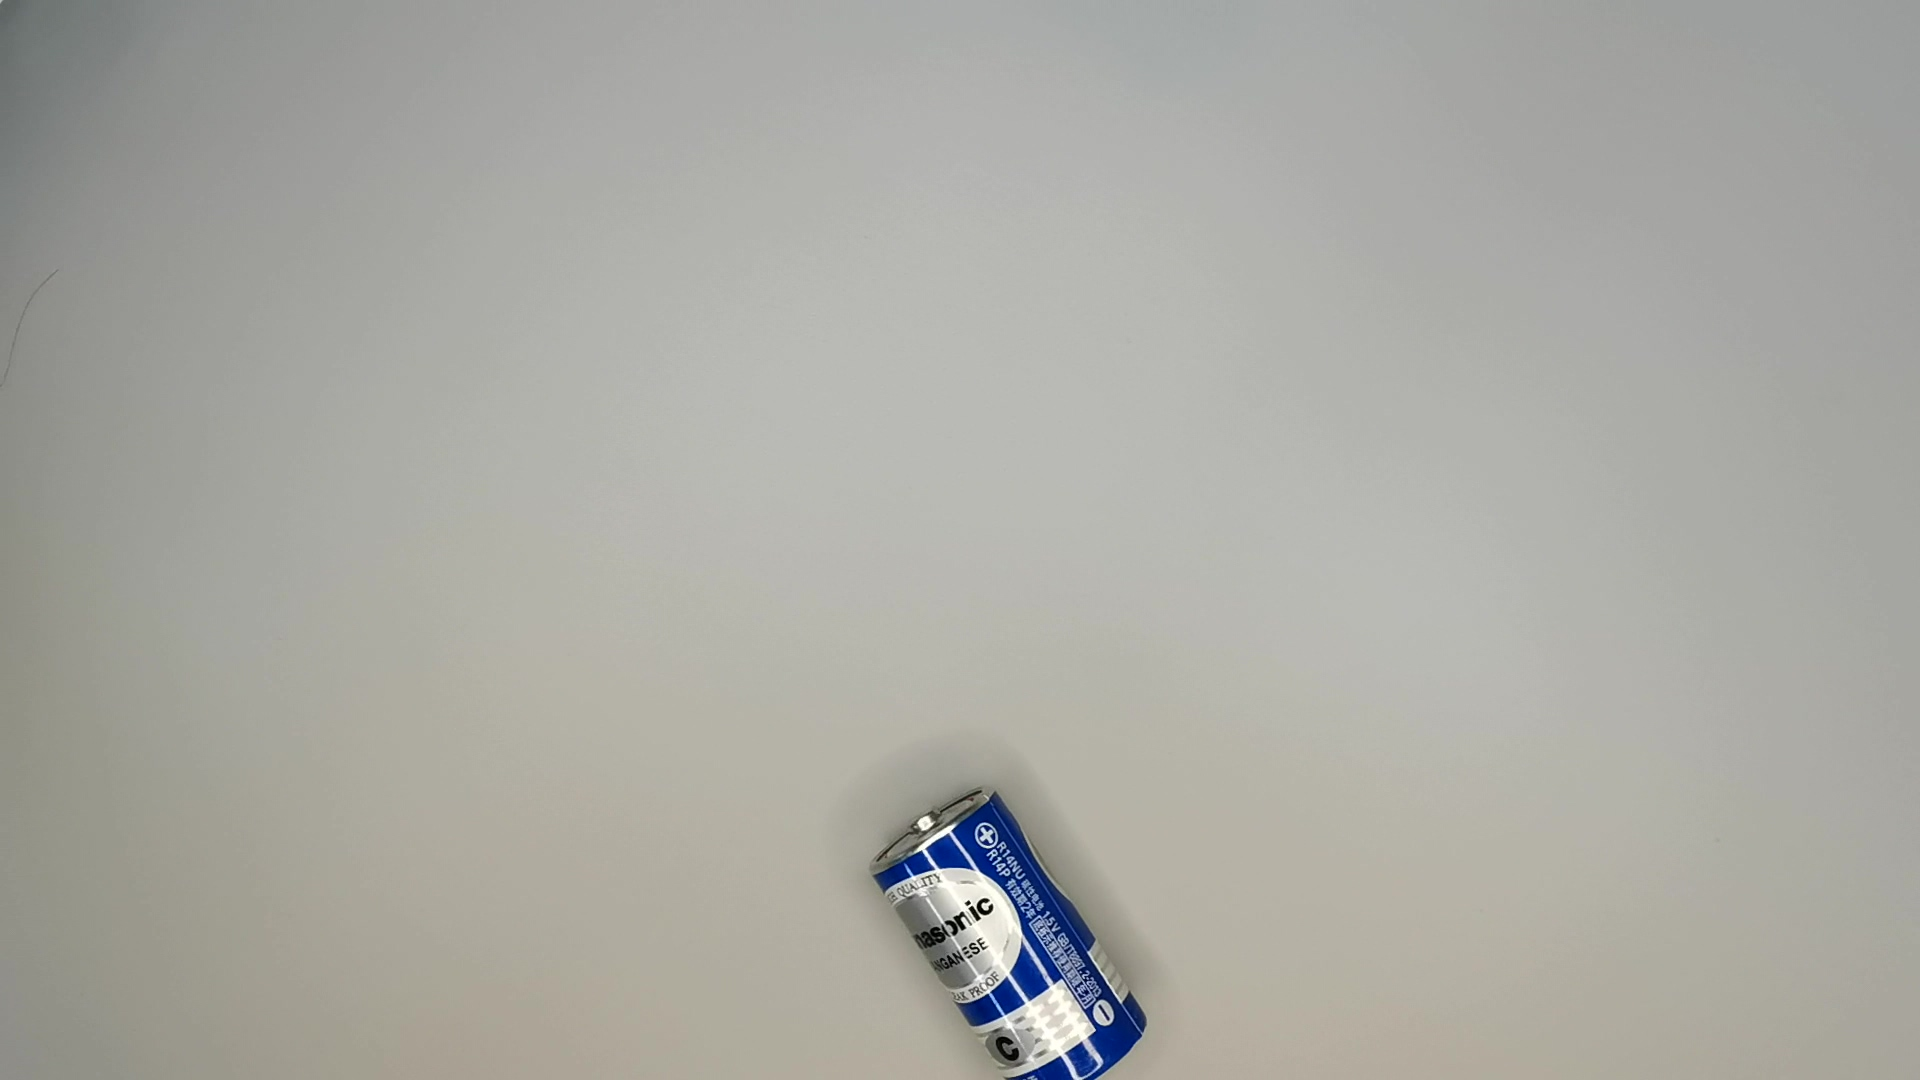battery: (860, 778, 1156, 1080)
